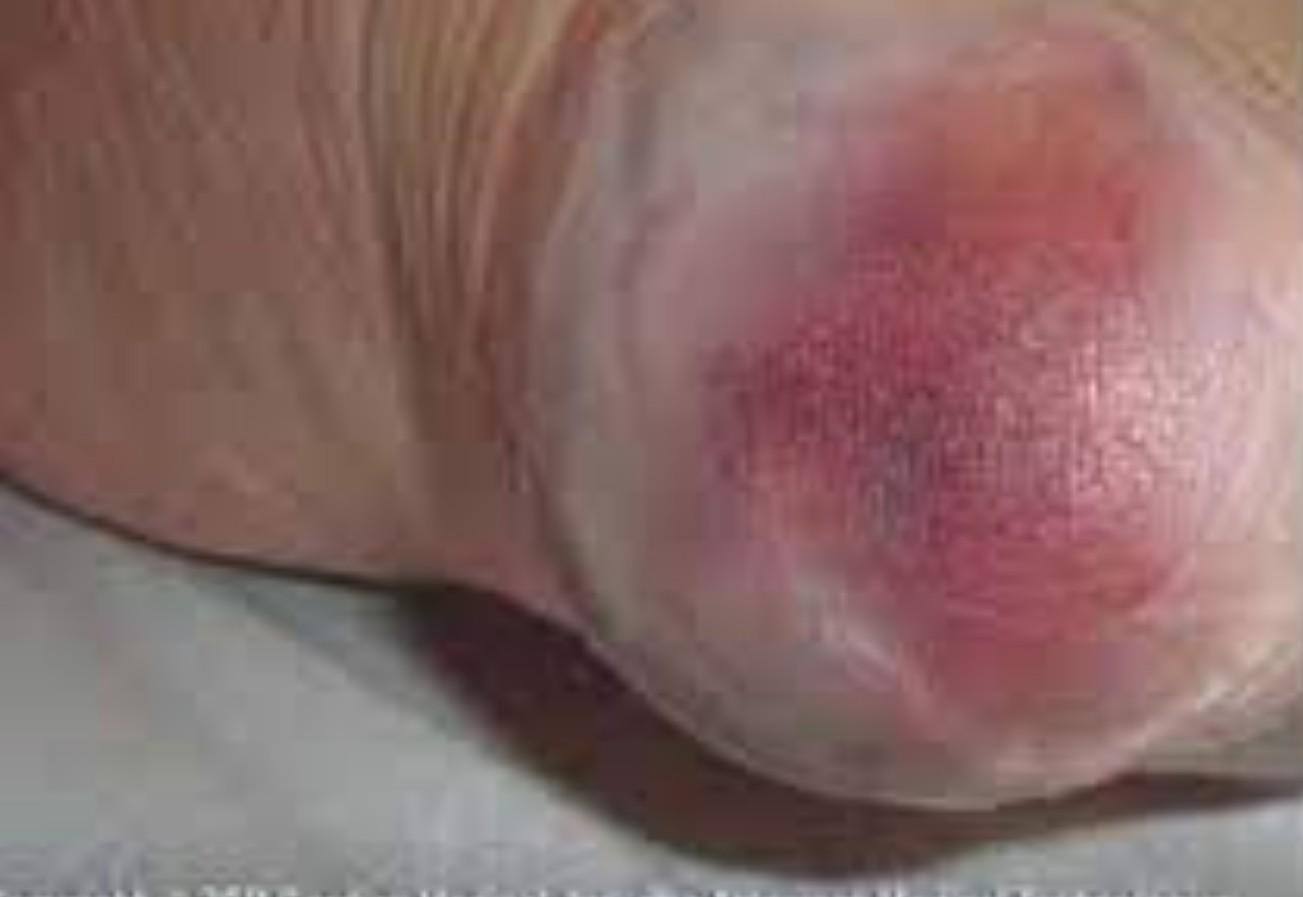Stage1: (588, 24, 1272, 765)
